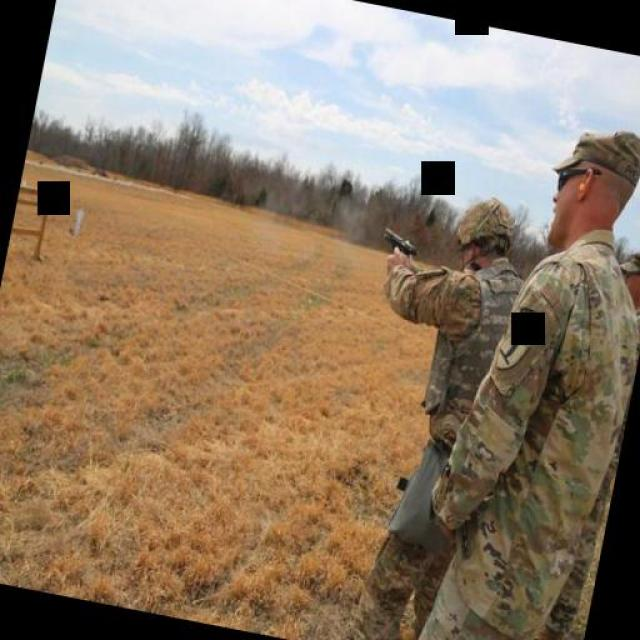gun: (377, 218, 422, 264)
